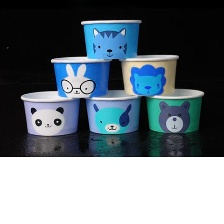paper_cup: (143, 83, 207, 136), (17, 87, 81, 137), (81, 85, 142, 137), (47, 53, 114, 100), (117, 50, 181, 99), (77, 15, 144, 61)
